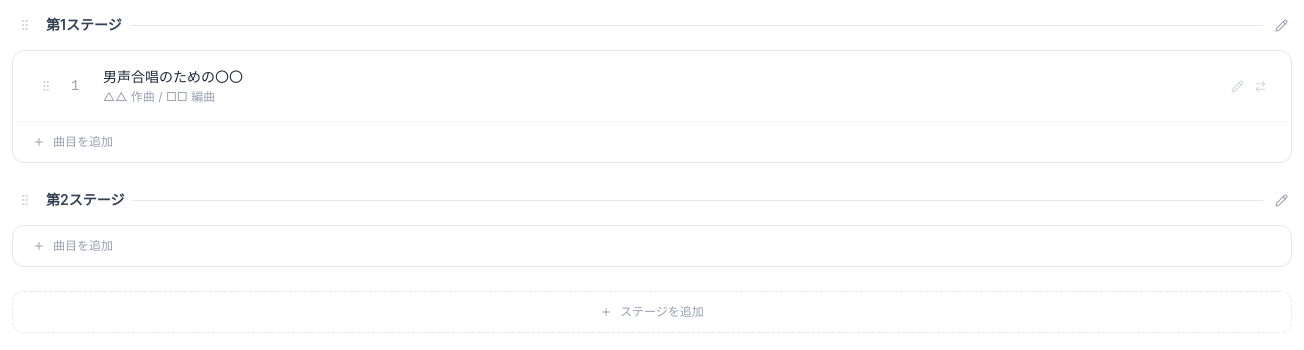
Scenario: StagesTab（ステージ名インライン編集） › ✏️クリックで入力欄に切り替わり、Enterで保存する
Step 1. Click the button named "第1ステージの名前を編集" → (1282, 25), box [1271,14,1292,36]
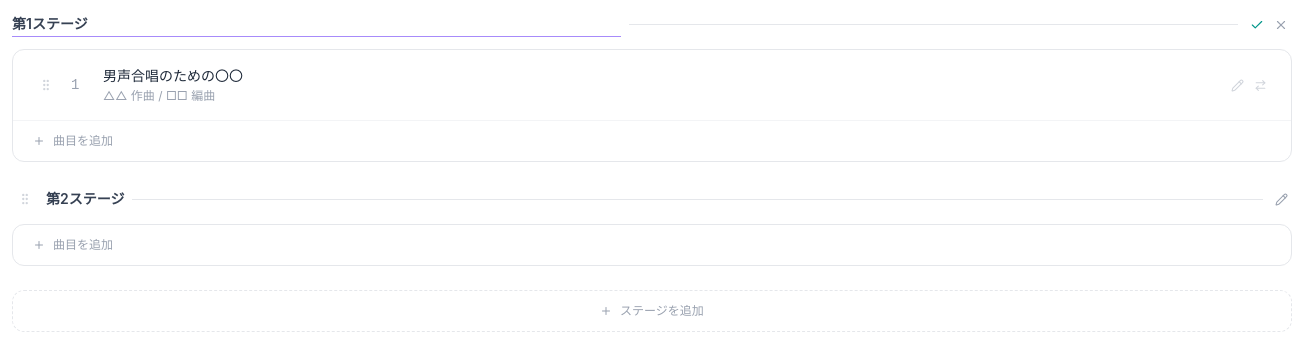
Step 2. Replace the text in the field named "ステージ名" with "改称ステージ" → (316, 24), box [12,12,621,37]
Then press Enter
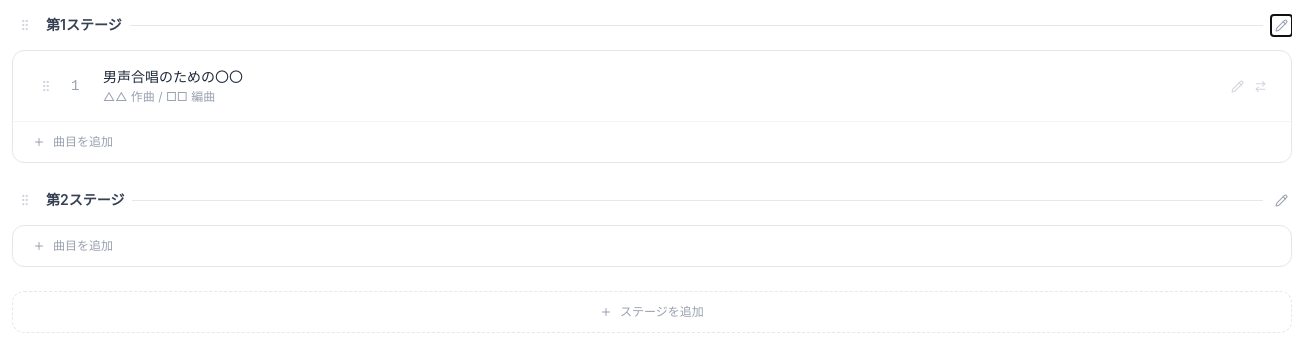
Check: the field labelled "ステージ名" is gone
